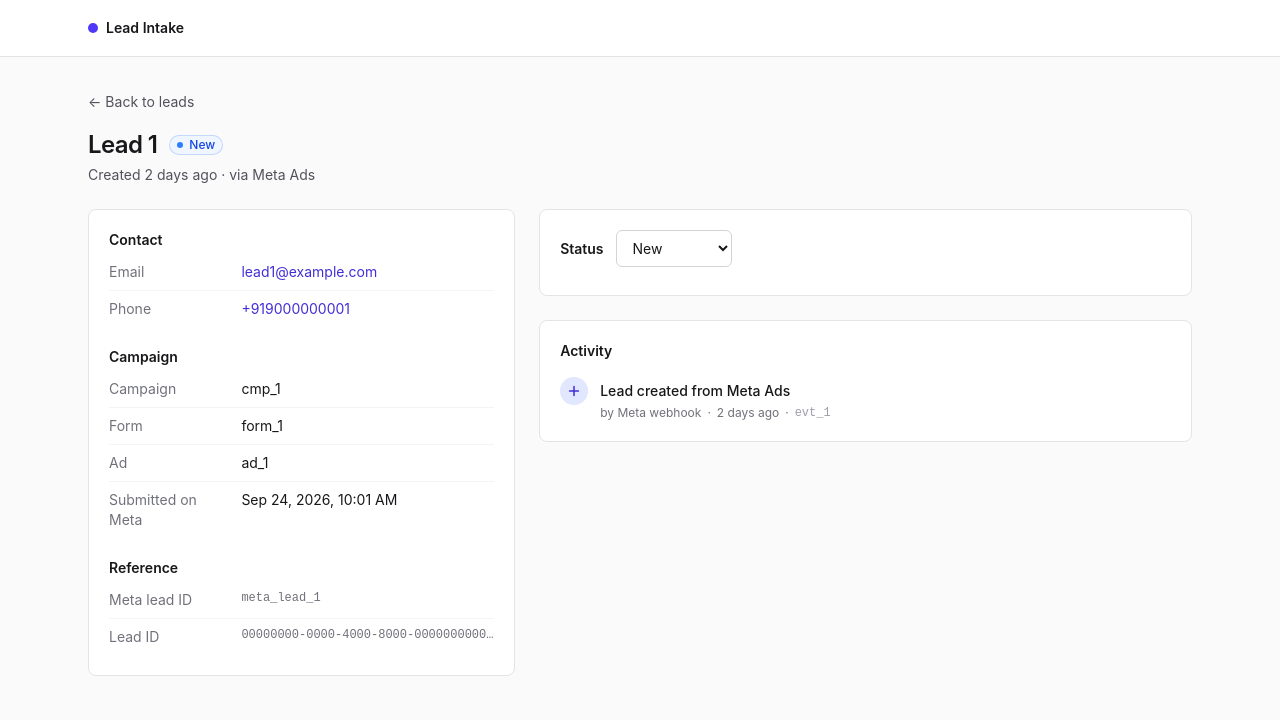
Test: lead detail: status updates (server-authoritative) › on failure returns the select to the saved status and shows the error once
Expected: the list named "Activity" is shown, [560, 377, 831, 420]
Select "Qualified" in the dropdown labelled "Status" at x=674, y=248, box [616, 230, 732, 267]
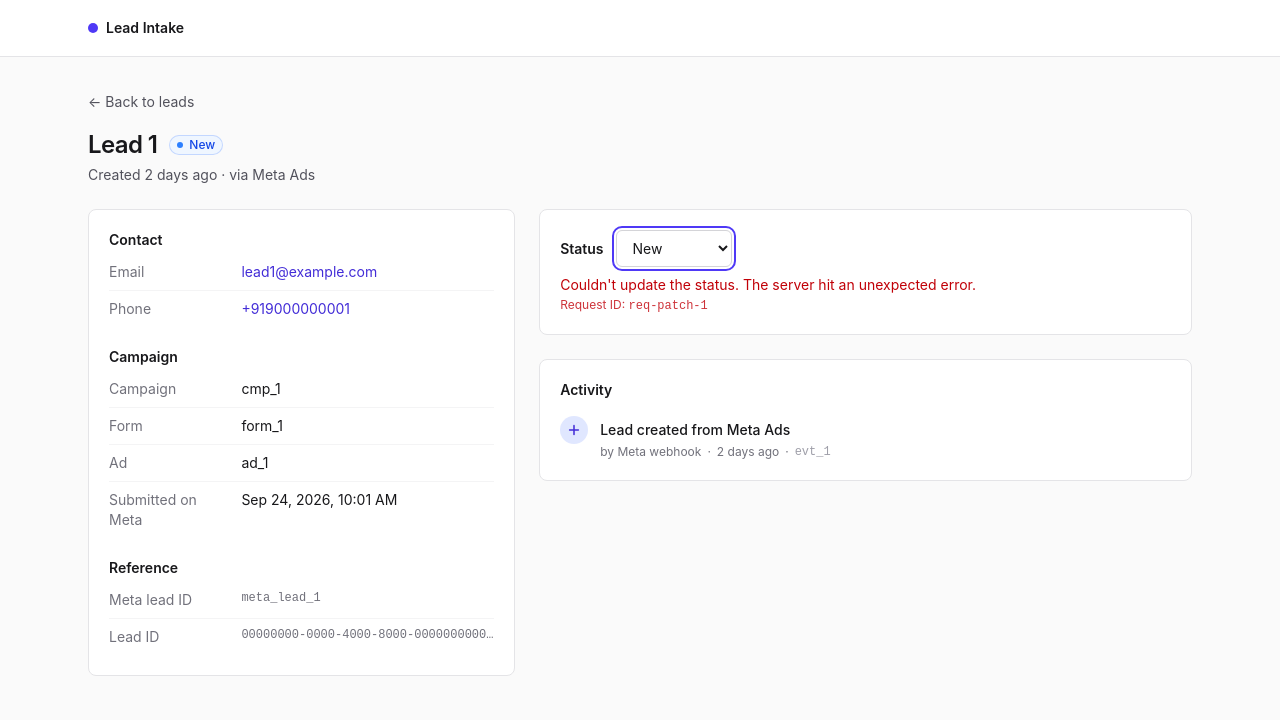
Now the message shows "Couldn't update the status", box [560, 276, 743, 293]
Now the text "req-patch-1" is shown, box [628, 299, 708, 313]
